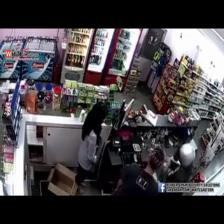person: (75, 103, 107, 193), (115, 148, 164, 195)
